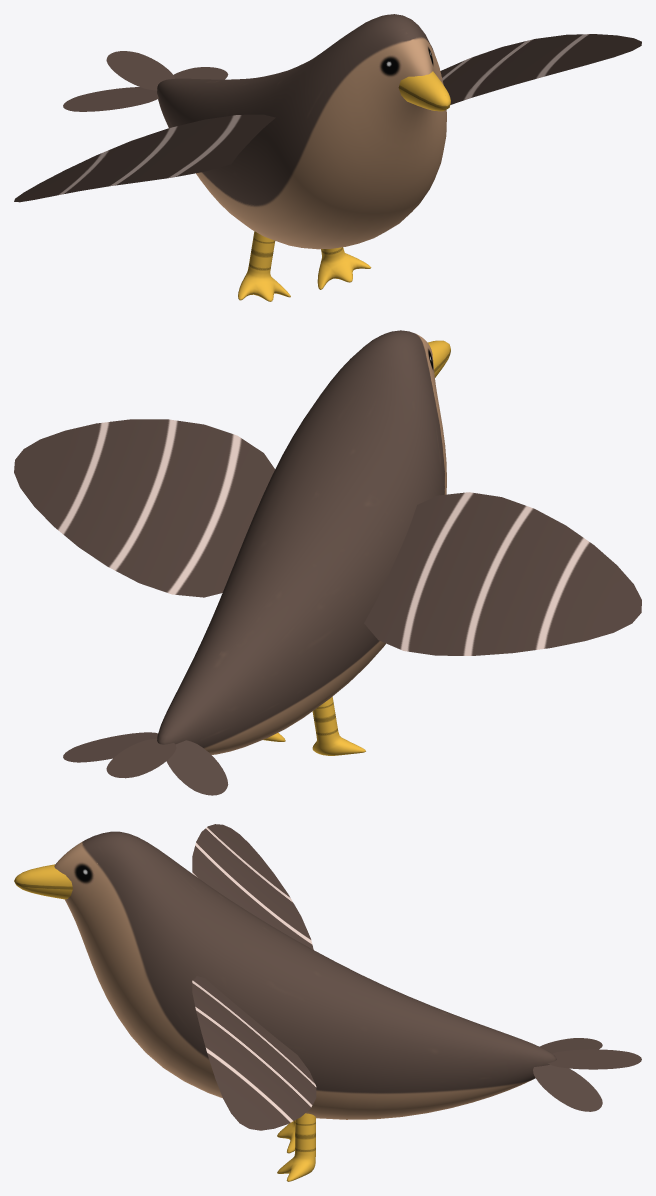
File: Bird.fbx
3 renders of one model, top to bottom at view 1: azimuth 30°, elevation 25°; view 2: azimuth 150°, elevation 25°; view 3: azimuth 270°, elevation 25°, orthographic. The views are drawn at different scales.
Visible parts, largest first — view 1: Body, WingTwo, WingOne; view 2: Body, WingOne, WingTwo; view 3: Body, WingOne, WingTwo.
Boxes of the visible parts, x1,y1,x2,y2 form: Body: (63, 14, 450, 301); WingTwo: (14, 114, 275, 202); WingOne: (440, 34, 641, 104); Body: (63, 330, 450, 795); WingOne: (14, 419, 274, 597); WingTwo: (364, 492, 641, 655); Body: (14, 831, 641, 1181); WingOne: (192, 976, 316, 1130); WingTwo: (192, 824, 313, 949).
Bounding box in the file's own units: 610 × 320 × 560.
1 material, 1 textured.
